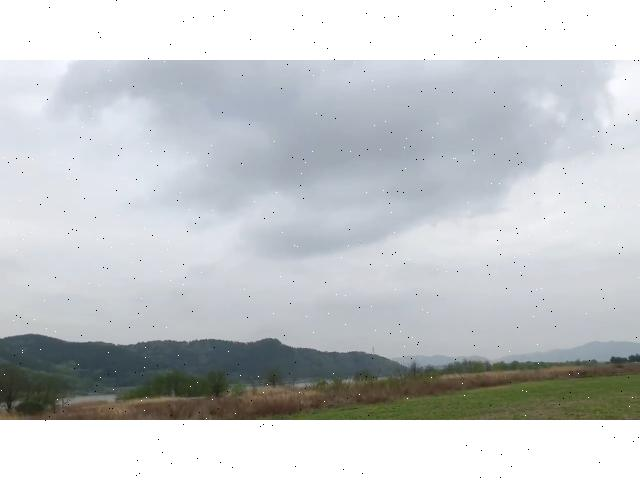Anti-Drone: (348, 235, 368, 251)
